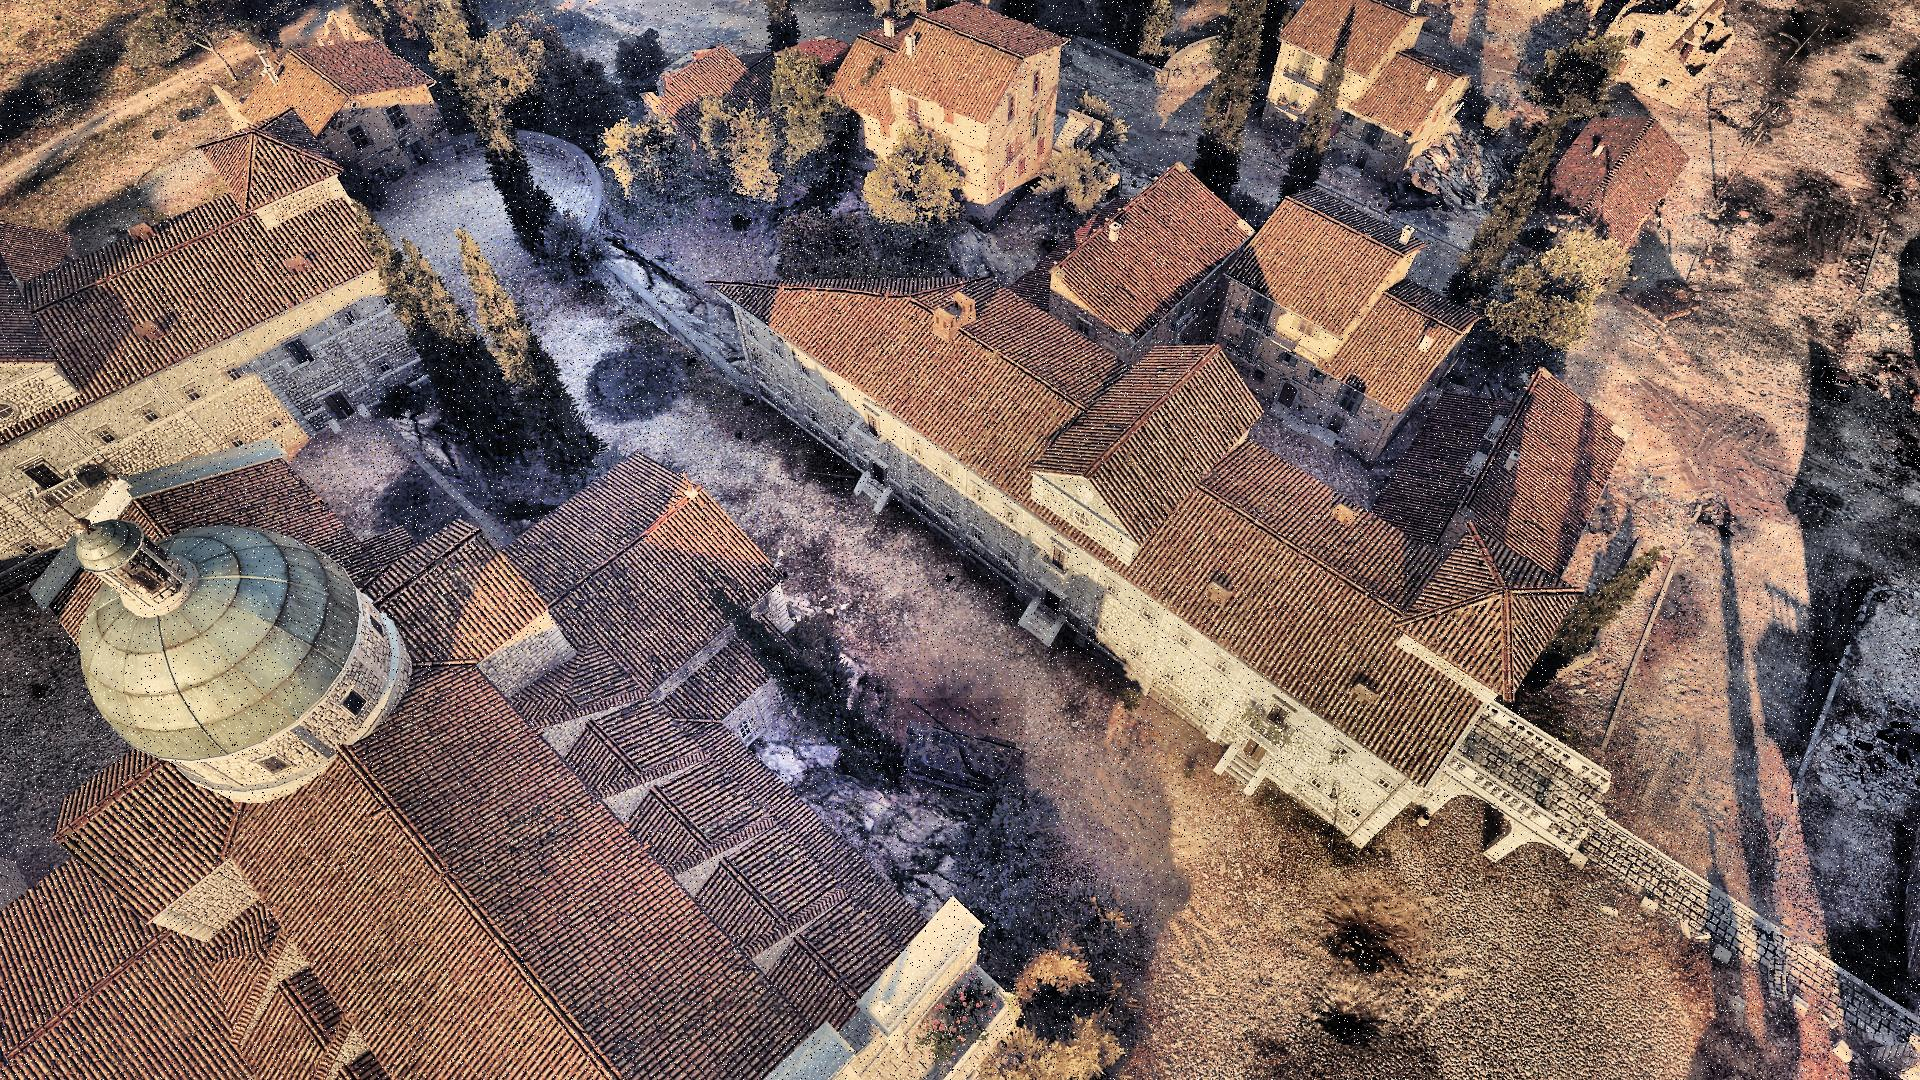military-vehicle: (895, 699, 1027, 794)
